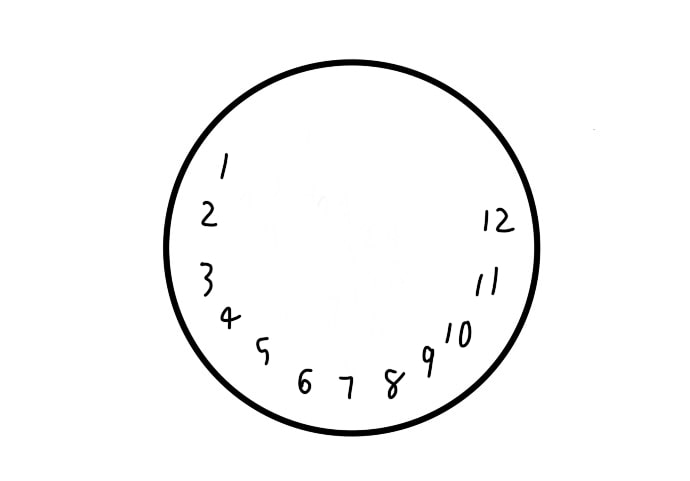eight: (381, 364, 407, 403)
eleven: (475, 263, 502, 297)
five: (255, 331, 271, 371)
four: (218, 303, 243, 333)
nine: (421, 341, 437, 382)
one: (216, 149, 231, 179)
seven: (337, 373, 355, 401)
six: (297, 364, 315, 396)
ten: (444, 319, 474, 350)
three: (196, 256, 215, 300)
twelve: (479, 204, 516, 238)
two: (199, 195, 218, 231)
